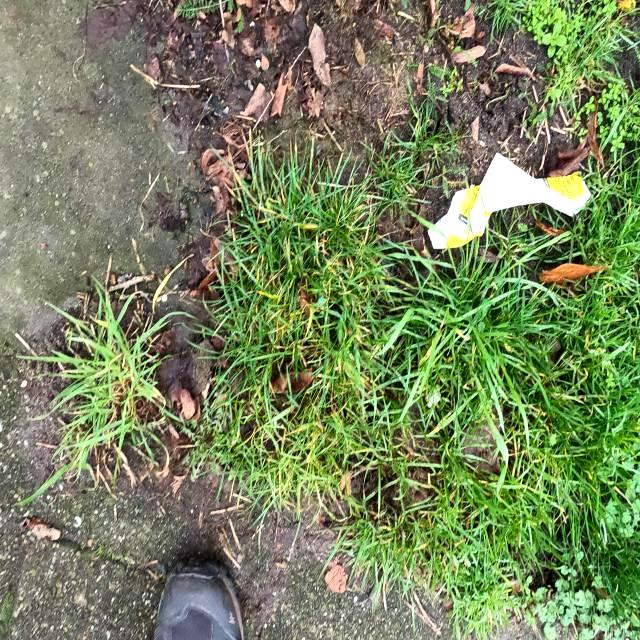Paper: (416, 152, 596, 260)
